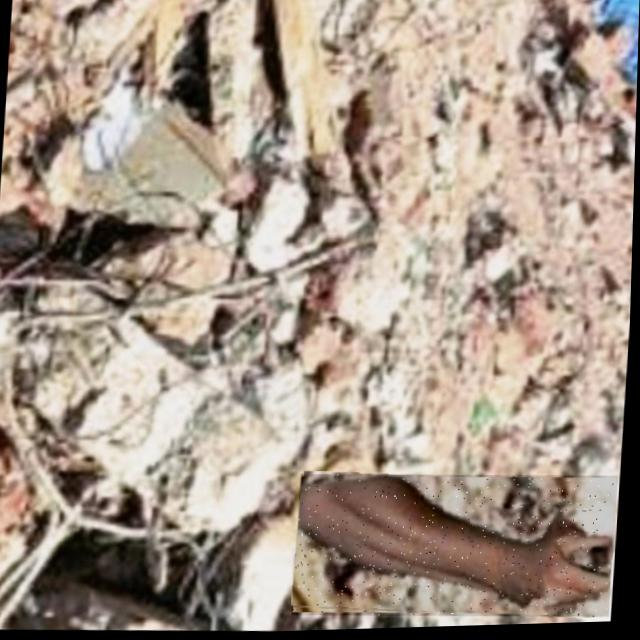Person in Rubble: (294, 468, 620, 628)
